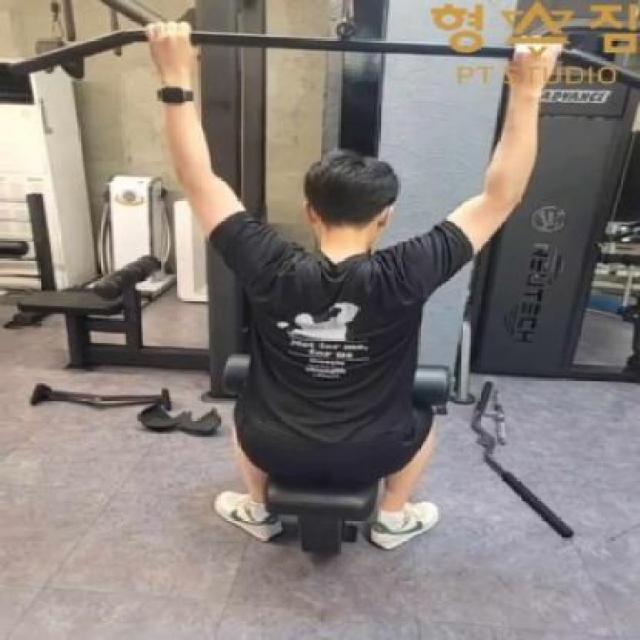Lat Pull Down: (1, 0, 638, 569)
